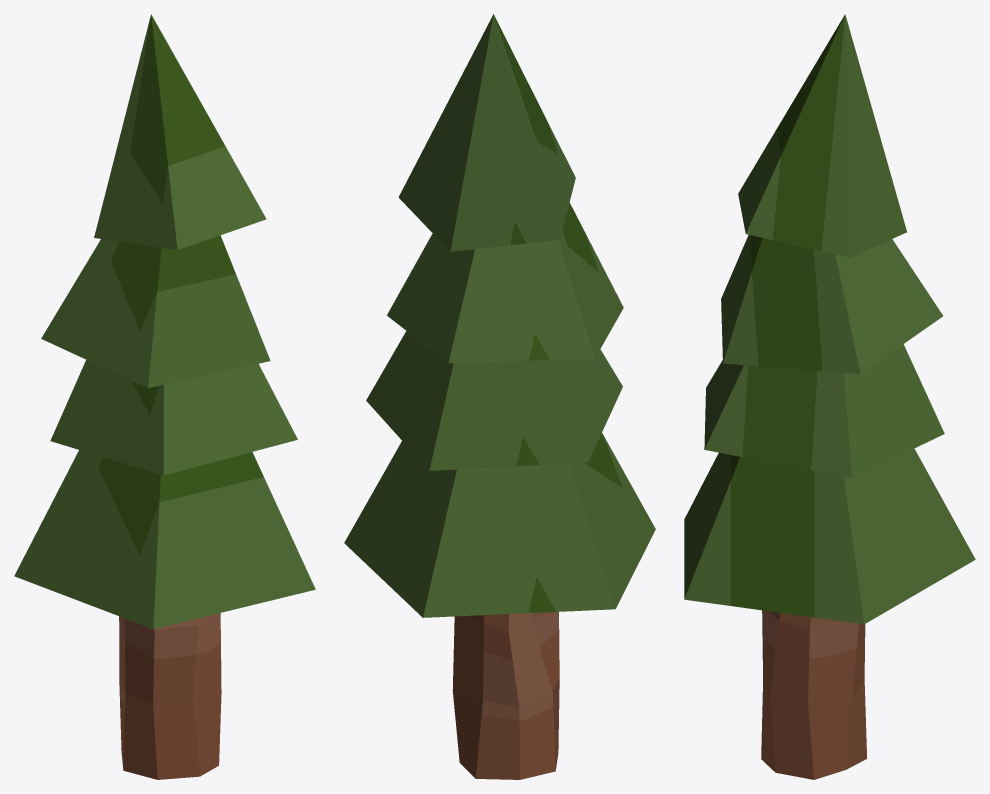
File: spruce.fbx
3 views of the same model, side by side, from view 1: azimuth 30°, elevation 25°; view 2: azimuth 150°, elevation 25°; view 3: azimuth 270°, elevation 25° (orthographic). The views are drawn at different scales.
Parts seen in each view (by area): view 1: Cone.003, Cylinder; view 2: Cone.003, Cylinder; view 3: Cone.003, Cylinder.
Part boxes in pixels (x1=…): Cone.003: x1=14, y1=14, x2=315, y2=629; Cylinder: x1=119, y1=613, x2=221, y2=779; Cone.003: x1=344, y1=14, x2=655, y2=617; Cylinder: x1=452, y1=612, x2=559, y2=779; Cone.003: x1=684, y1=14, x2=975, y2=624; Cylinder: x1=761, y1=610, x2=866, y2=779.
Size of the model in its own units: 231 by 616 by 219.
